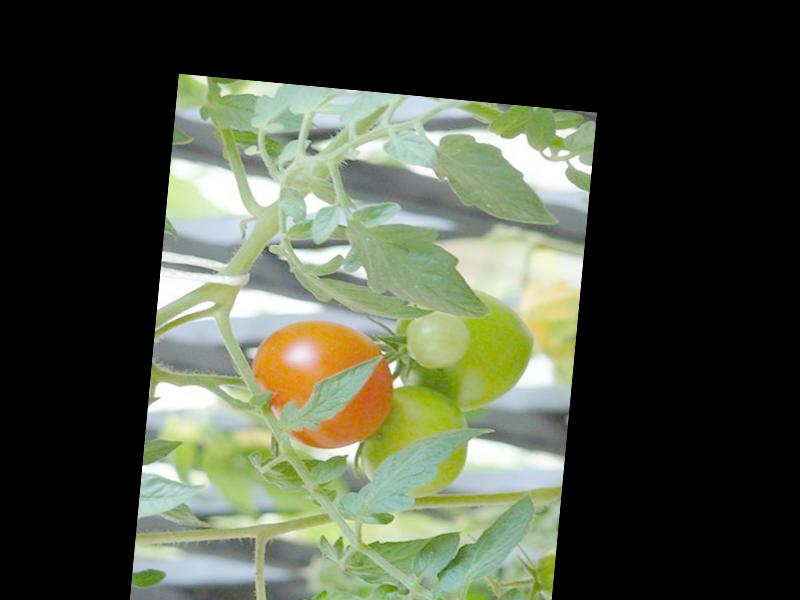Tomato: (245, 313, 397, 454)
